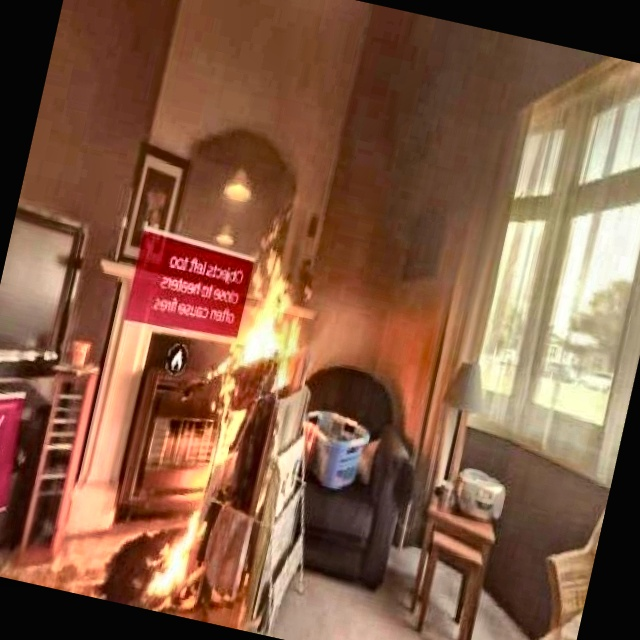fire: (205, 256, 313, 408)
